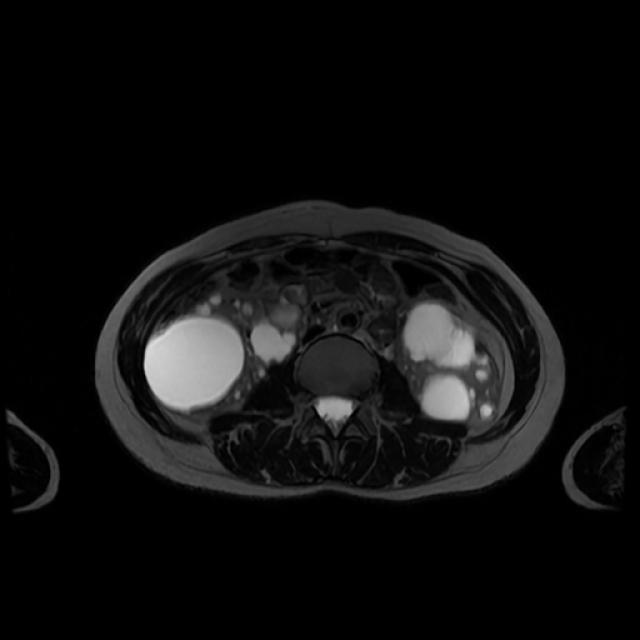sag: (145, 294, 304, 413)
sol: (397, 302, 503, 428)
